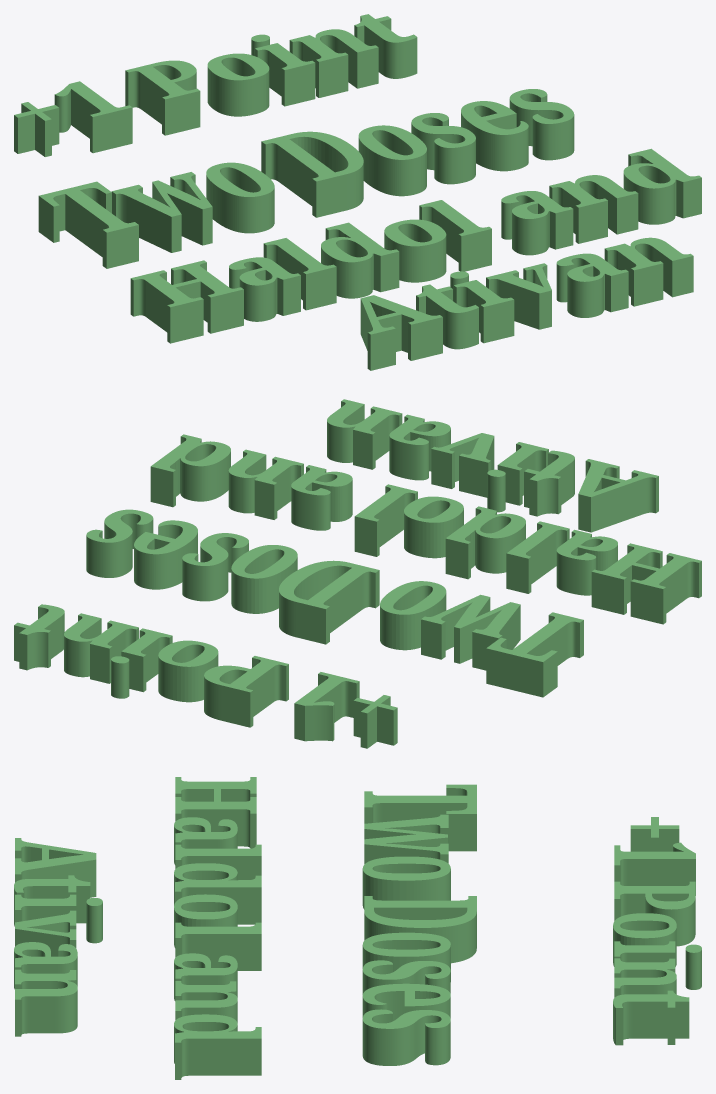
Rendered from posmeth.gltf.
3 views of the same model, one above another, from view 1: azimuth 30°, elevation 25°; view 2: azimuth 150°, elevation 25°; view 3: azimuth 270°, elevation 25° (orthographic). The views are drawn at different scales.
Visible parts, largest first — view 1: Mesh_Mesh_head_geo001_lambert2SG001; view 2: Mesh_Mesh_head_geo001_lambert2SG001; view 3: Mesh_Mesh_head_geo001_lambert2SG001.
Boxes of the visible parts, x1,y1,x2,y2 form: Mesh_Mesh_head_geo001_lambert2SG001: [14, 14, 701, 370]; Mesh_Mesh_head_geo001_lambert2SG001: [14, 399, 701, 748]; Mesh_Mesh_head_geo001_lambert2SG001: [14, 777, 701, 1079].
Size of the model in its own units: 153 by 10 by 168.
